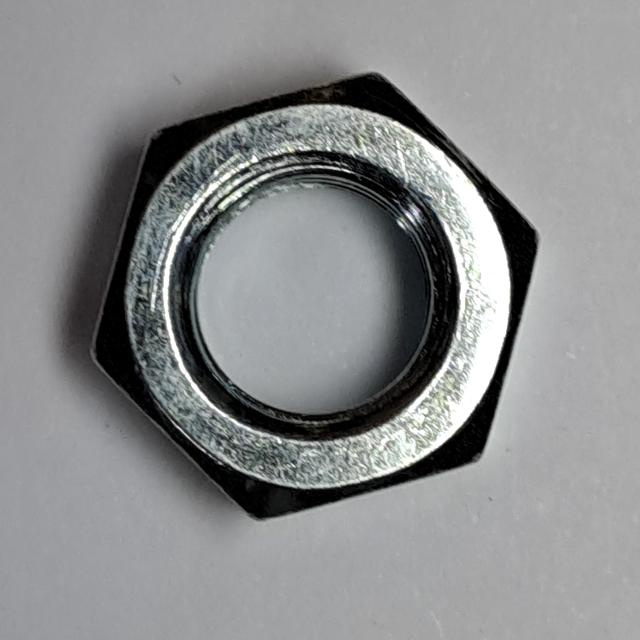Excellent: (81, 61, 547, 539)
